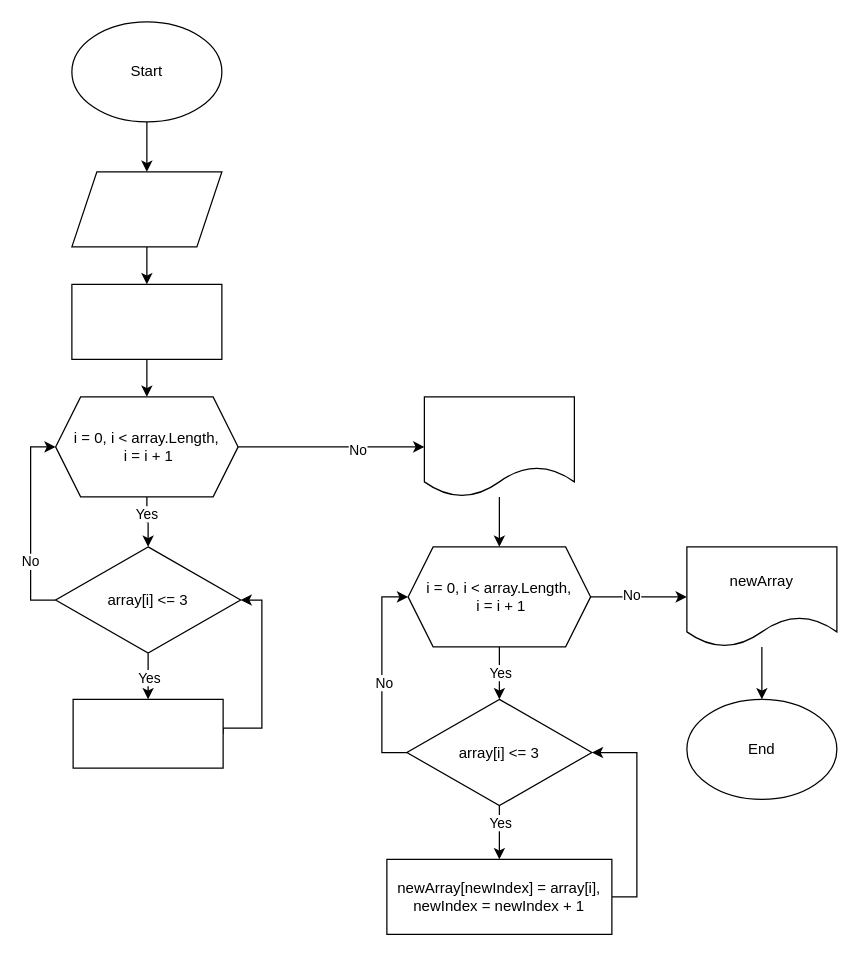
The diagram is 859 pixels wide and 956 high, and some of its shapes have lost their labels. Each missing label, with the centre of its shape:
"array" belongs at point (146, 209).
"size = 0, newIndex = 0" belongs at point (146, 321).
"size = size + 1" belongs at point (147, 733).
"size, newArray[size]" belongs at point (498, 446).
